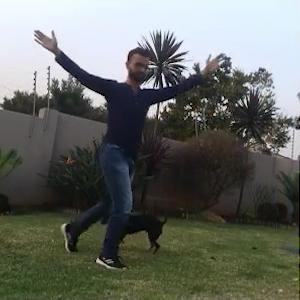takeoff: (34, 36, 180, 242)
